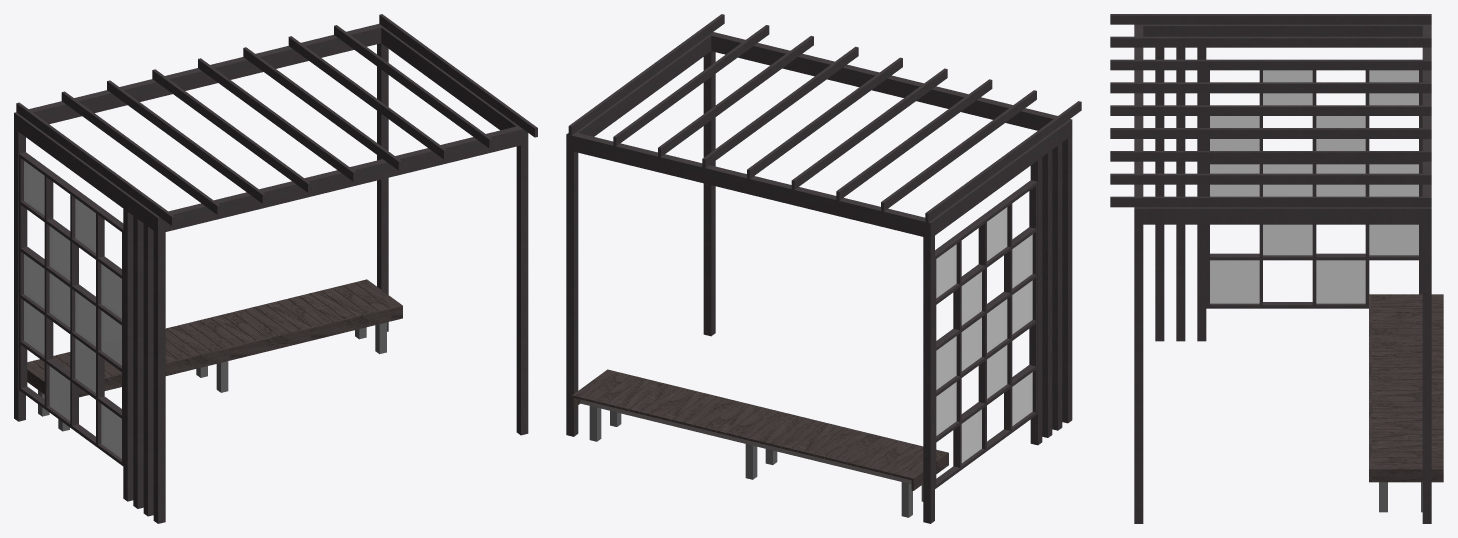
Rendered from pp4-g_kakicha.fbx.
The picture shows the model from 3 angles, left to right: view 1: azimuth 30°, elevation 25°; view 2: azimuth 150°, elevation 25°; view 3: azimuth 270°, elevation 25°; orthographic projection. The views are drawn at different scales.
Visible parts, largest first — view 1: pp4-g_kakicha2; view 2: pp4-g_kakicha2; view 3: pp4-g_kakicha2.
Part boxes in pixels (left/top/right/bottom): pp4-g_kakicha2: left=14, top=14, right=537, bottom=523; pp4-g_kakicha2: left=566, top=14, right=1081, bottom=523; pp4-g_kakicha2: left=1110, top=14, right=1443, bottom=523.
Bounding box in the file's own units: 367 × 298 × 277.
7 materials, 4 textured.
